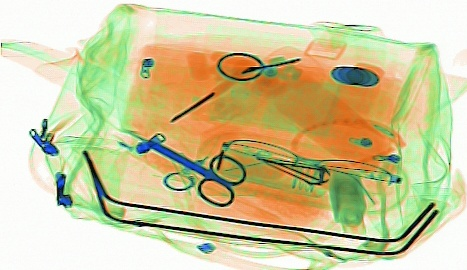scissors: (130, 133, 246, 207)
